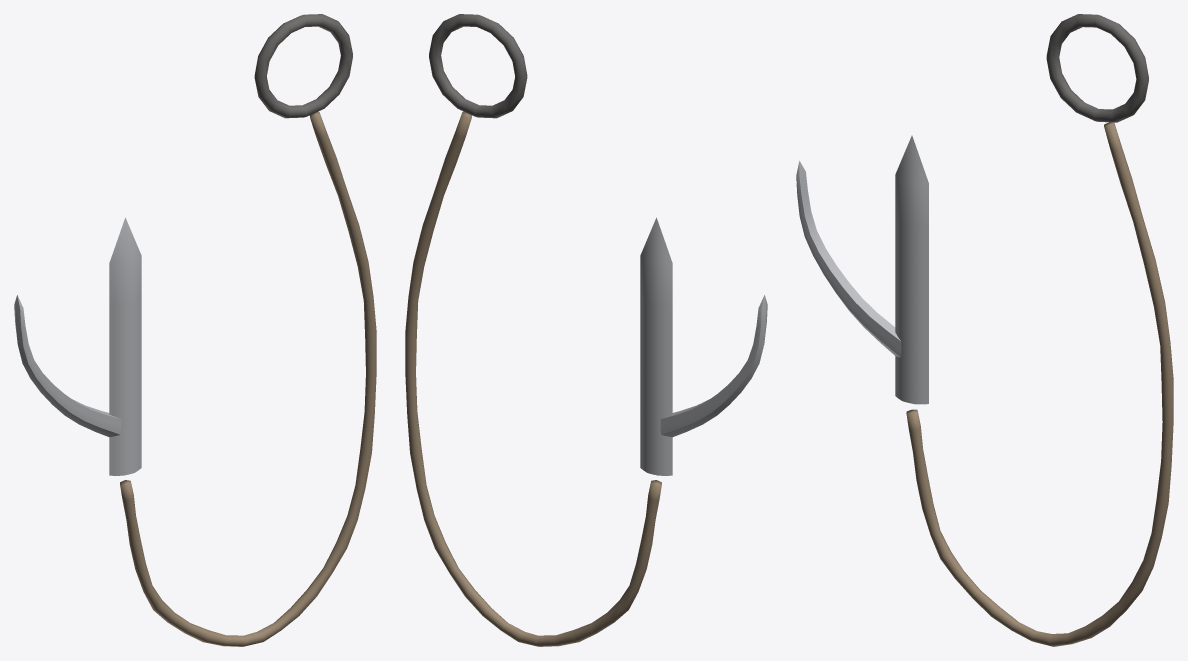
The model's file is kyoketsu-shoge.glb.
3 views of the same model, side by side, from view 1: azimuth 30°, elevation 25°; view 2: azimuth 150°, elevation 25°; view 3: azimuth 330°, elevation 25° (orthographic). The views are drawn at different scales.
Parts seen in each view (by area): view 1: kyoketsu-shoge; view 2: kyoketsu-shoge; view 3: kyoketsu-shoge.
Boxes of the visible parts, left/top/right/bottom form: kyoketsu-shoge: left=14, top=14, right=376, bottom=646; kyoketsu-shoge: left=405, top=14, right=767, bottom=646; kyoketsu-shoge: left=796, top=14, right=1173, bottom=646.
Bounding box in the file's own units: 0.6681 × 1.09 × 0.024.
